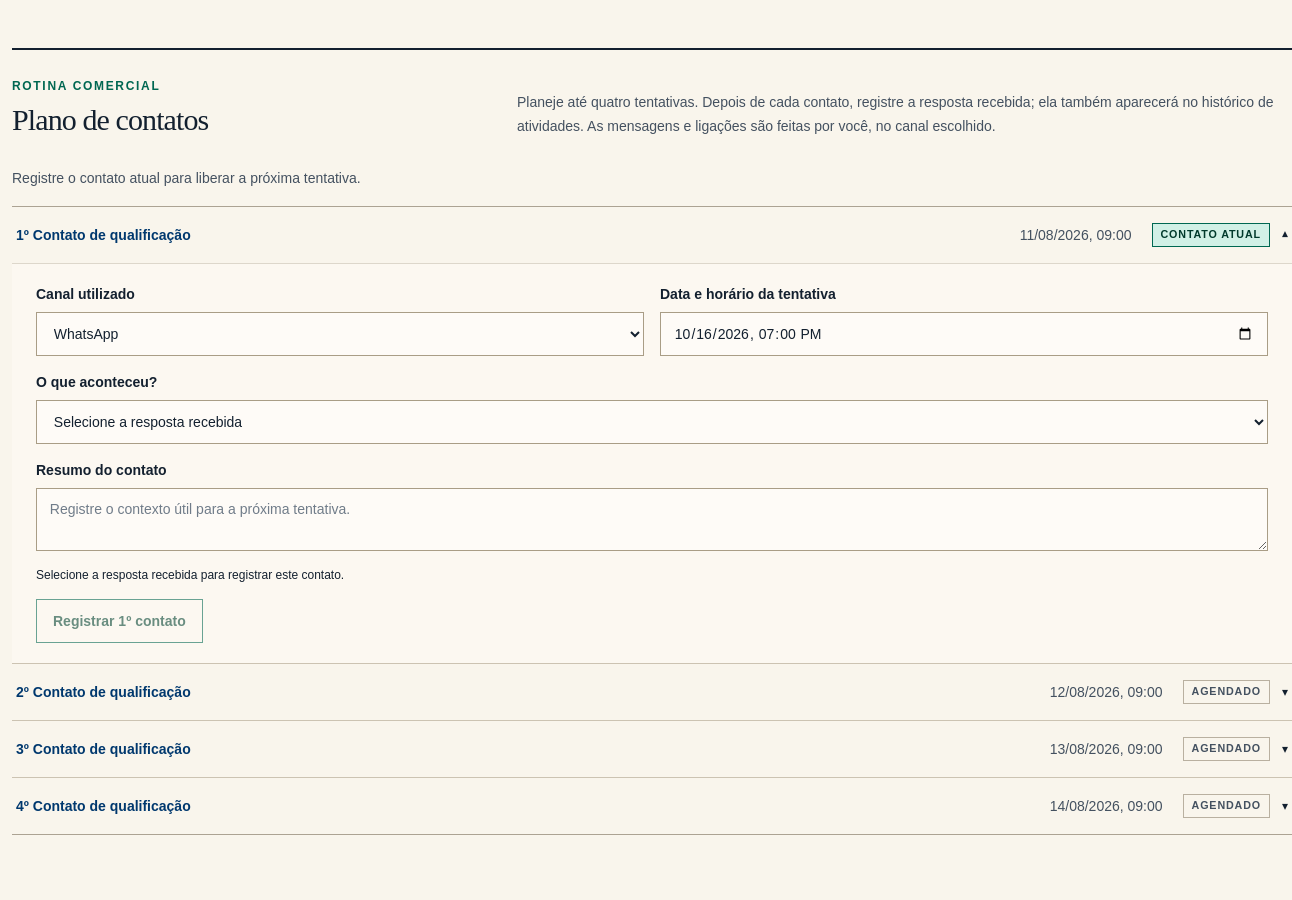
Test: qualification cadence › shows a human recommendation when the response is ambiguous
Select "Respondeu; continuar qualificando" in the dropdown labelled "O que aconteceu?" at (652, 422), box [36,400,1268,444]
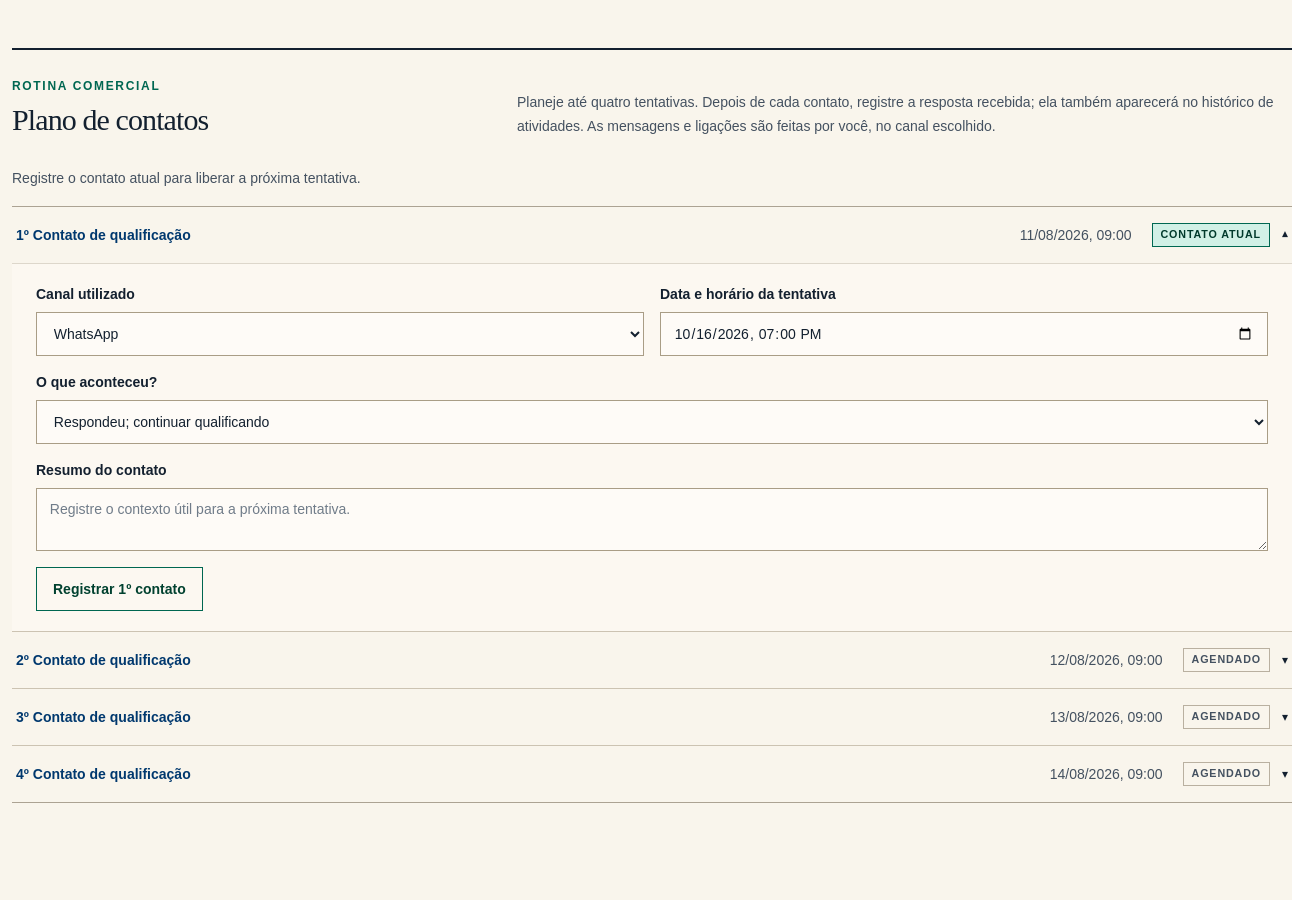
Click the button "Registrar 1º contato".
click(119, 589)  # box [36,567,203,611]
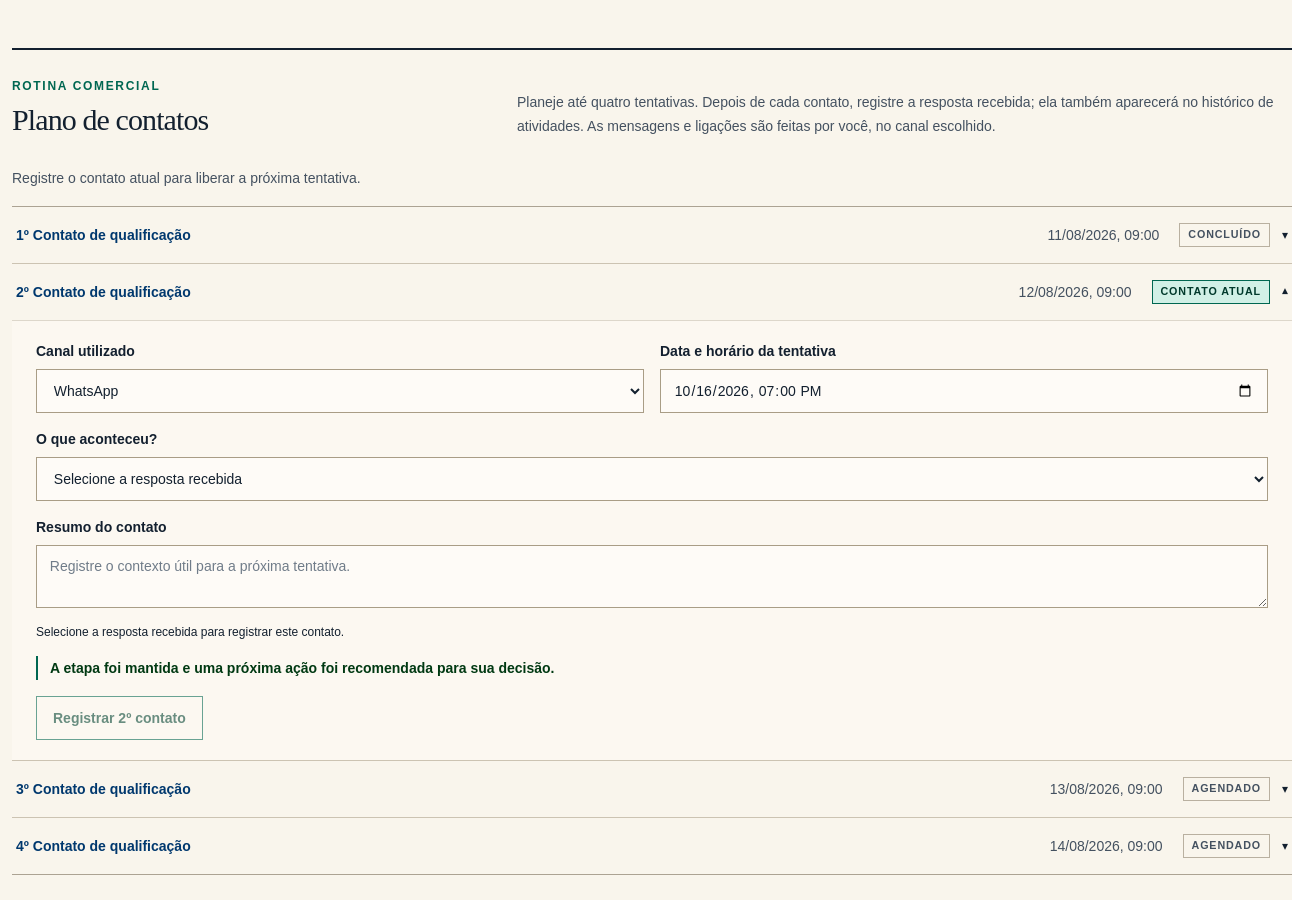
Check: the message named "Resultado do acompanhamento" reads "A etapa foi mantida e uma próxima ação foi recomendada para sua decisão.", box [50,660,554,676]
